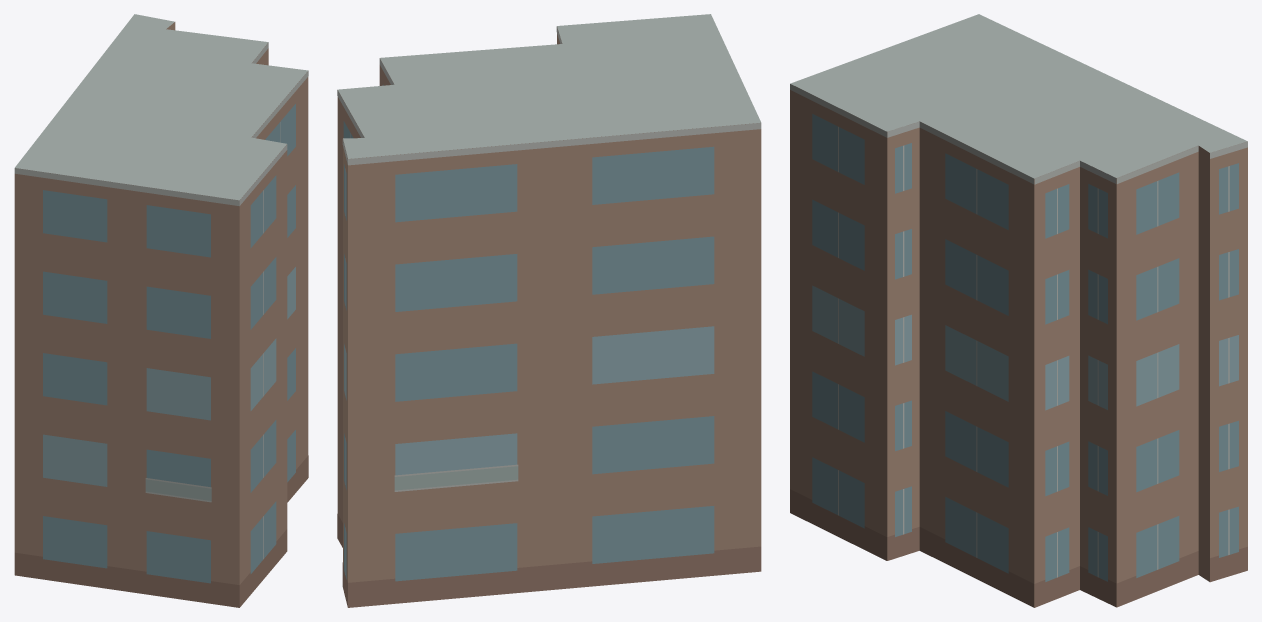
Rendered from survey-upis-32843752.glb.
The picture shows the model from 3 angles, left to right: view 1: azimuth 30°, elevation 25°; view 2: azimuth 150°, elevation 25°; view 3: azimuth 270°, elevation 25°; orthographic projection. The views are drawn at different scales.
Parts seen in each view (by area): view 1: survey-upis-32843752.tmp; view 2: survey-upis-32843752.tmp; view 3: survey-upis-32843752.tmp.
Boxes of the visible parts, box(x1,y1,x2,y2) form: survey-upis-32843752.tmp: box(14, 14, 308, 607); survey-upis-32843752.tmp: box(337, 14, 761, 607); survey-upis-32843752.tmp: box(790, 14, 1247, 607).
Bounding box in the file's own units: 14.11 × 17.15 × 16.58.
